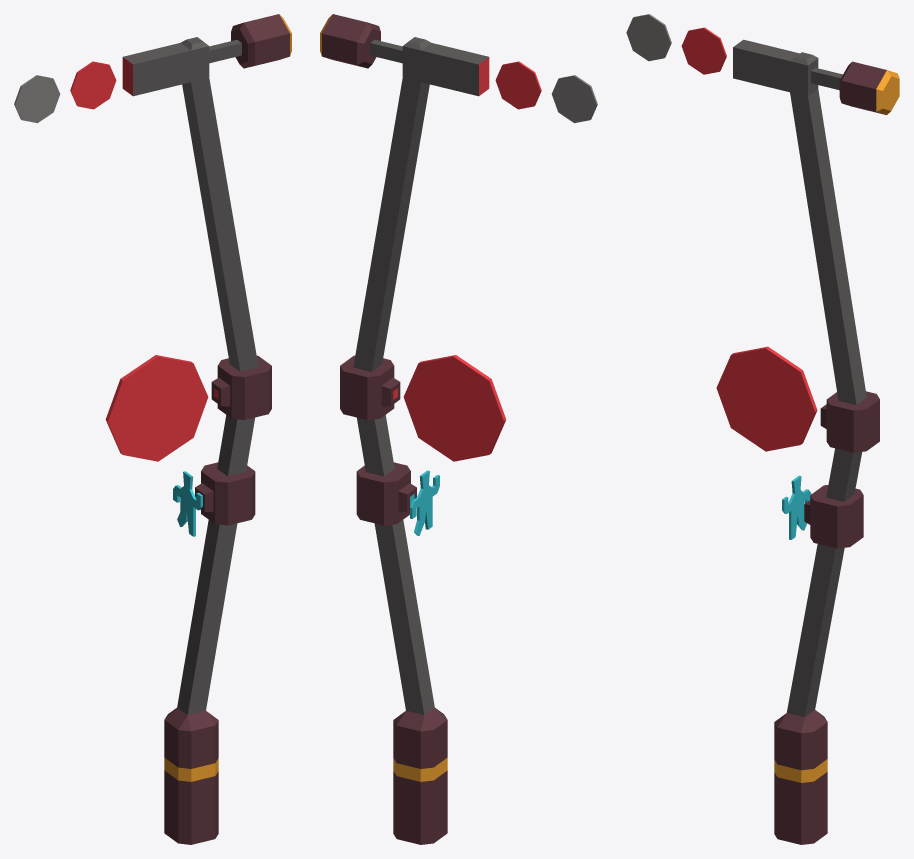
The model's file is scifi-traffic-lights-pedestrian-go.fbx.
3 renders of one model, left to right at view 1: azimuth 30°, elevation 25°; view 2: azimuth 150°, elevation 25°; view 3: azimuth 330°, elevation 25°, orthographic.
Visible parts, largest first — view 1: scifi-traffic-lights-pedestrian-go; view 2: scifi-traffic-lights-pedestrian-go; view 3: scifi-traffic-lights-pedestrian-go.
Boxes of the visible parts, x1,y1,x2,y2 form: scifi-traffic-lights-pedestrian-go: [14, 14, 291, 844]; scifi-traffic-lights-pedestrian-go: [320, 14, 597, 844]; scifi-traffic-lights-pedestrian-go: [626, 14, 899, 844].
Size of the model in its own units: 3.12 by 8.84 by 0.5496.
